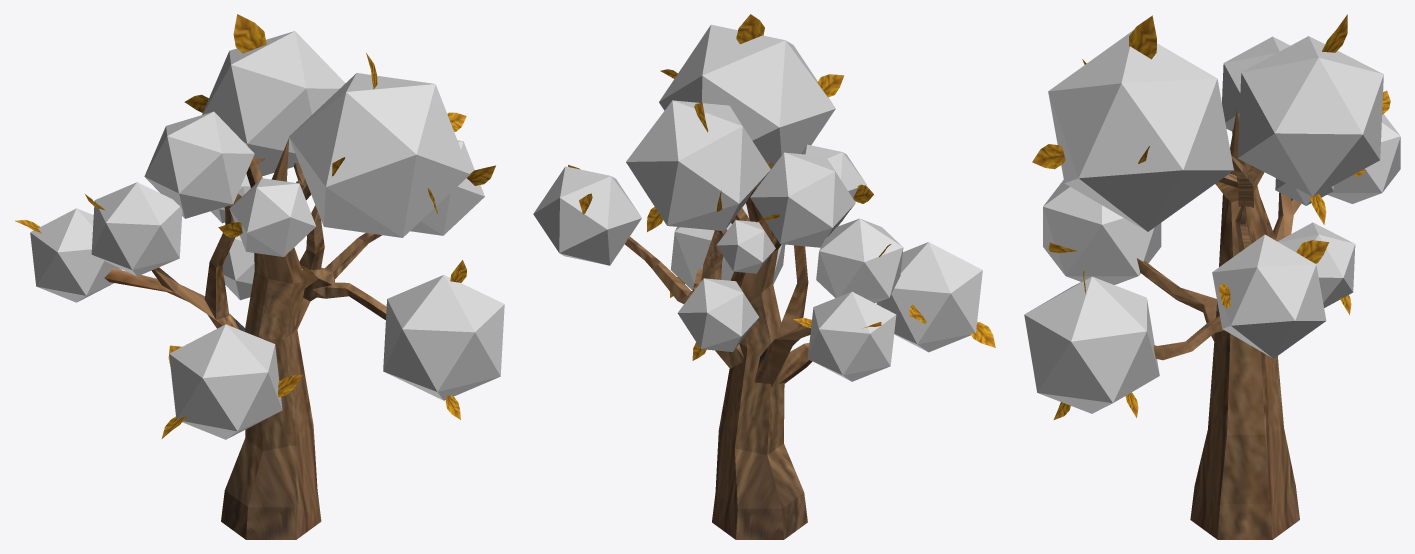
File: mid_tree_02.fbx
3 renders of one model, left to right at view 1: azimuth 30°, elevation 25°; view 2: azimuth 150°, elevation 25°; view 3: azimuth 270°, elevation 25°, orthographic. The views are drawn at different scales.
Parts seen in each view (by area): view 1: crown, trunk, leaves; view 2: crown, trunk, leaves; view 3: crown, trunk, leaves.
Boxes of the visible parts, x1,y1,x2,y2 form: crown: (30,31,504,439); trunk: (104,138,386,539); leaves: (15,14,495,438); crown: (533,24,982,381); trunk: (625,161,812,539); leaves: (568,14,995,360); crown: (1024,30,1400,413); trunk: (1137,110,1301,539); leaves: (1032,14,1390,419).
Bounding box in the file's own units: 14.63 × 16.8 × 10.77.
